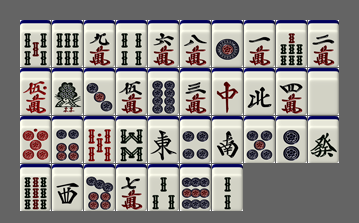0m: (20, 68, 51, 115)
0p: (20, 116, 51, 163)
0s: (84, 116, 115, 163)
1m: (244, 20, 275, 67)
1p: (212, 20, 243, 67)
1s: (52, 68, 83, 115)
1z: (148, 116, 179, 163)
2m: (308, 20, 339, 67)
2p: (276, 116, 307, 163)
2s: (212, 164, 243, 211)
2z: (212, 116, 243, 163)
3m: (180, 68, 211, 115)
3p: (84, 68, 115, 115)
3s: (148, 164, 179, 211)
3z: (52, 164, 83, 211)
4m: (276, 68, 307, 115)
4p: (180, 116, 211, 163)
4s: (116, 20, 147, 67)
4z: (244, 68, 275, 115)
5m: (116, 68, 147, 115)
5p: (244, 116, 275, 163)
5s: (20, 20, 51, 67)
5z: (308, 68, 339, 115)
6m: (148, 20, 179, 67)
6p: (52, 116, 83, 163)
6s: (52, 20, 83, 67)
6z: (308, 116, 339, 163)
7m: (116, 164, 147, 211)
7p: (84, 164, 115, 211)
7s: (276, 20, 307, 67)
7z: (212, 68, 243, 115)
8m: (180, 20, 211, 67)
8p: (148, 68, 179, 115)
8s: (116, 116, 147, 163)
9m: (84, 20, 115, 67)
9p: (180, 164, 211, 211)
9s: (20, 164, 51, 211)
